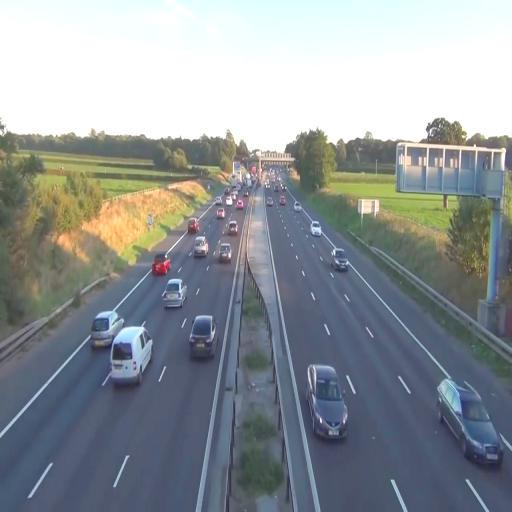vehicle: (438, 377, 504, 469), (306, 364, 349, 440), (110, 324, 154, 386), (90, 310, 124, 351), (188, 314, 218, 360), (161, 278, 187, 310), (330, 247, 350, 272), (152, 255, 172, 277), (215, 240, 232, 263), (193, 235, 208, 259), (227, 218, 238, 235), (215, 204, 225, 220), (311, 222, 321, 236)
